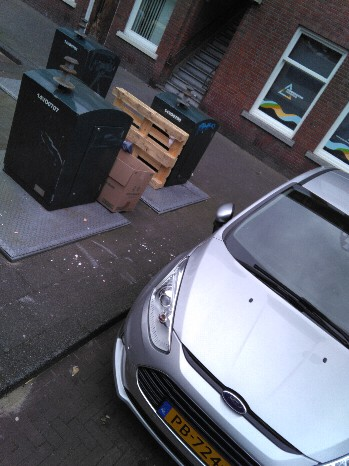Container: (27, 71, 104, 216), (170, 89, 215, 194), (54, 35, 117, 82)
Rest: (117, 89, 168, 162)
Voertuig: (110, 225, 349, 416), (107, 149, 146, 214), (261, 254, 285, 273)
